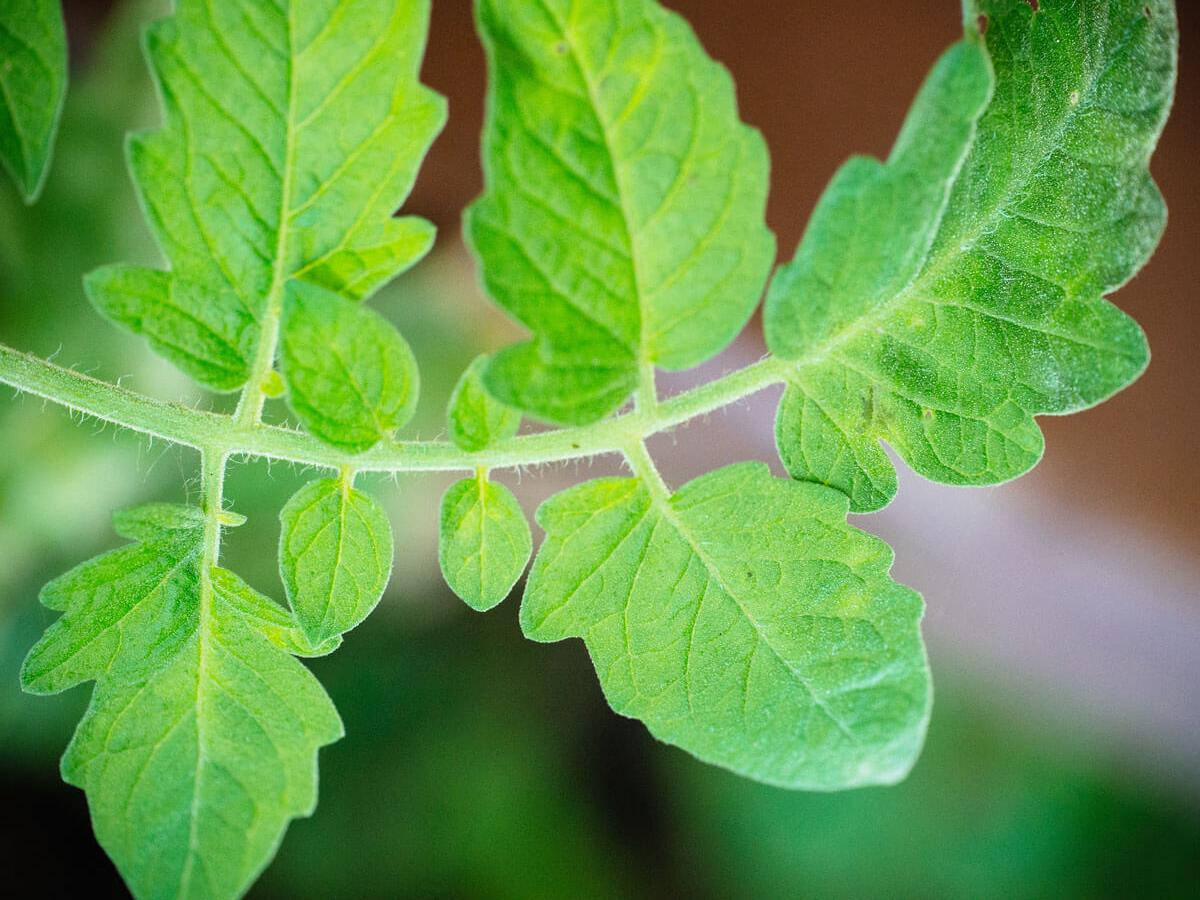Tomato leaf: (783, 5, 1196, 509), (539, 440, 933, 805), (95, 0, 447, 403), (475, 0, 757, 435), (18, 496, 308, 895), (279, 280, 439, 462), (278, 457, 403, 637), (429, 457, 532, 626)
